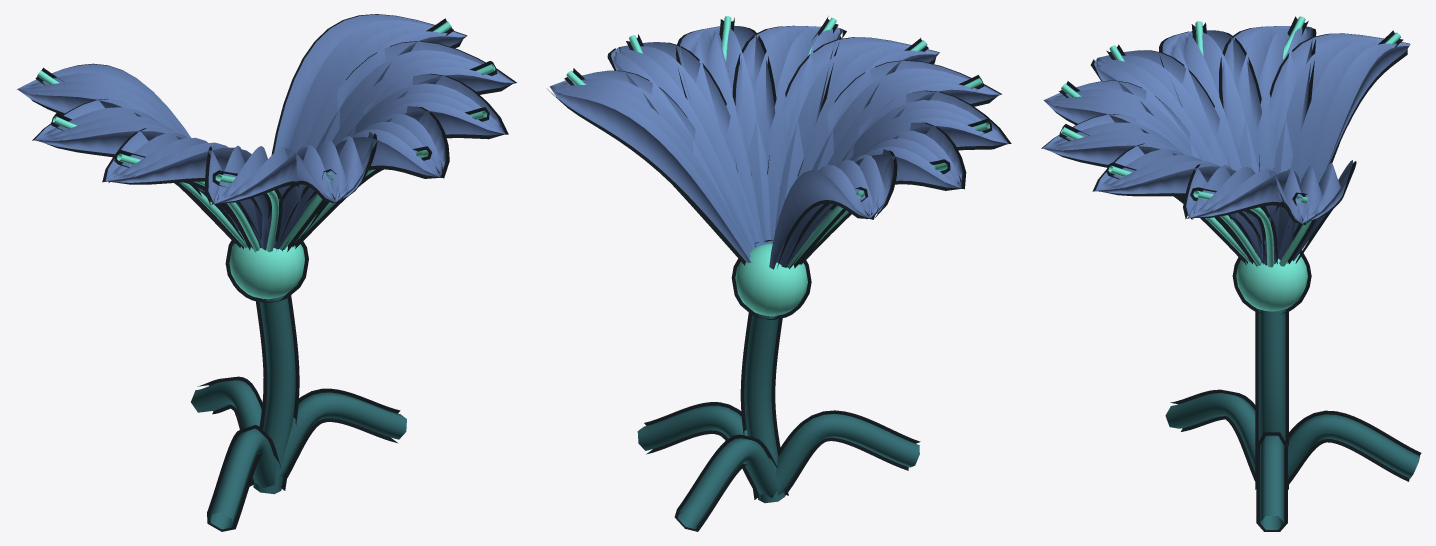
The model's file is cave-flower-fan.glb.
3 renders of one model, left to right at view 1: azimuth 30°, elevation 25°; view 2: azimuth 150°, elevation 25°; view 3: azimuth 270°, elevation 25°, orthographic. The views are drawn at different scales.
Visible parts, largest first — view 1: Tidefan Bloom_petal, Tidefan Bloom_stem, Tidefan Bloom_heart, Tidefan Bloom_petal_ink, Tidefan Bloom_stem_ink, Tidefan Bloom_heart_ink; view 2: Tidefan Bloom_petal, Tidefan Bloom_stem, Tidefan Bloom_heart, Tidefan Bloom_petal_ink, Tidefan Bloom_stem_ink, Tidefan Bloom_heart_ink; view 3: Tidefan Bloom_petal, Tidefan Bloom_stem, Tidefan Bloom_heart, Tidefan Bloom_stem_ink, Tidefan Bloom_petal_ink, Tidefan Bloom_heart_ink.
Boxes of the visible parts, x1,y1,x2,y2 form: Tidefan Bloom_petal: (17, 14, 514, 250); Tidefan Bloom_stem: (191, 295, 406, 529); Tidefan Bloom_heart: (37, 21, 495, 299); Tidefan Bloom_petal_ink: (17, 14, 516, 252); Tidefan Bloom_stem_ink: (197, 295, 400, 531); Tidefan Bloom_heart_ink: (35, 18, 497, 302); Tidefan Bloom_petal: (549, 26, 1008, 269); Tidefan Bloom_stem: (637, 312, 919, 529); Tidefan Bloom_heart: (566, 16, 990, 316); Tidefan Bloom_petal_ink: (547, 25, 1011, 269); Tidefan Bloom_stem_ink: (644, 312, 920, 531); Tidefan Bloom_heart_ink: (564, 16, 992, 319); Tidefan Bloom_petal: (1043, 26, 1410, 265); Tidefan Bloom_stem: (1165, 309, 1419, 529); Tidefan Bloom_heart: (1061, 16, 1400, 311); Tidefan Bloom_stem_ink: (1170, 308, 1421, 531); Tidefan Bloom_petal_ink: (1041, 26, 1409, 267); Tidefan Bloom_heart_ink: (1059, 16, 1403, 314).
Bounding box in the file's own units: 4.61 × 4.18 × 3.72.
